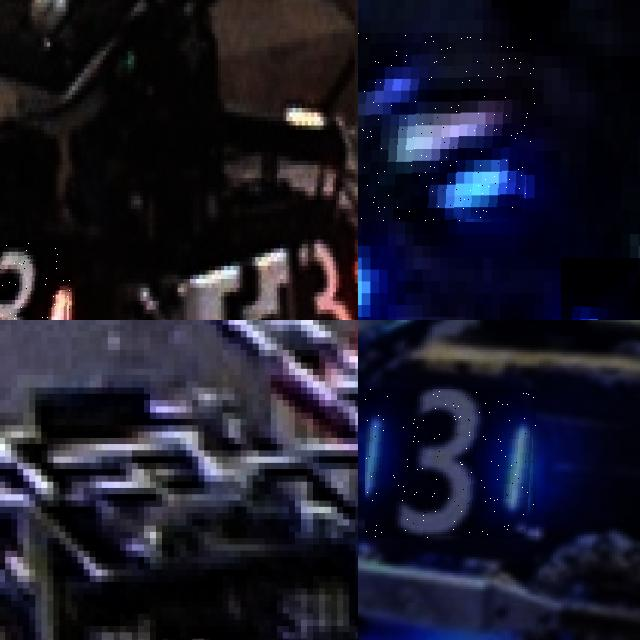B3: (365, 389, 536, 538)
B4: (358, 32, 534, 222)
R3: (0, 239, 72, 320)
